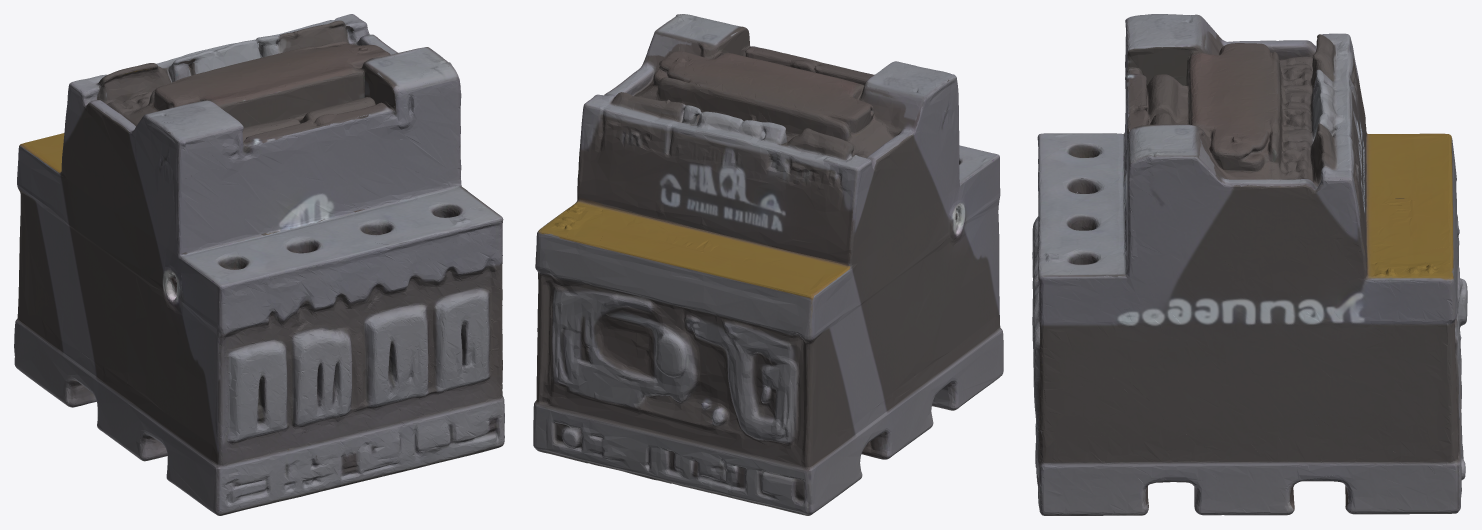
The model's file is fuse_combination_3D.glb.
The picture shows the model from 3 angles, left to right: view 1: azimuth 30°, elevation 25°; view 2: azimuth 150°, elevation 25°; view 3: azimuth 270°, elevation 25°; orthographic projection. The views are drawn at different scales.
Visible parts, largest first — view 1: world; view 2: world; view 3: world.
Boxes of the visible parts, x1,y1,x2,y2 form: world: (14, 14, 504, 515); world: (533, 14, 1003, 515); world: (1032, 14, 1467, 515).
Size of the model in its own units: 1.61 by 1.83 by 1.99.
1 material, 1 textured.
